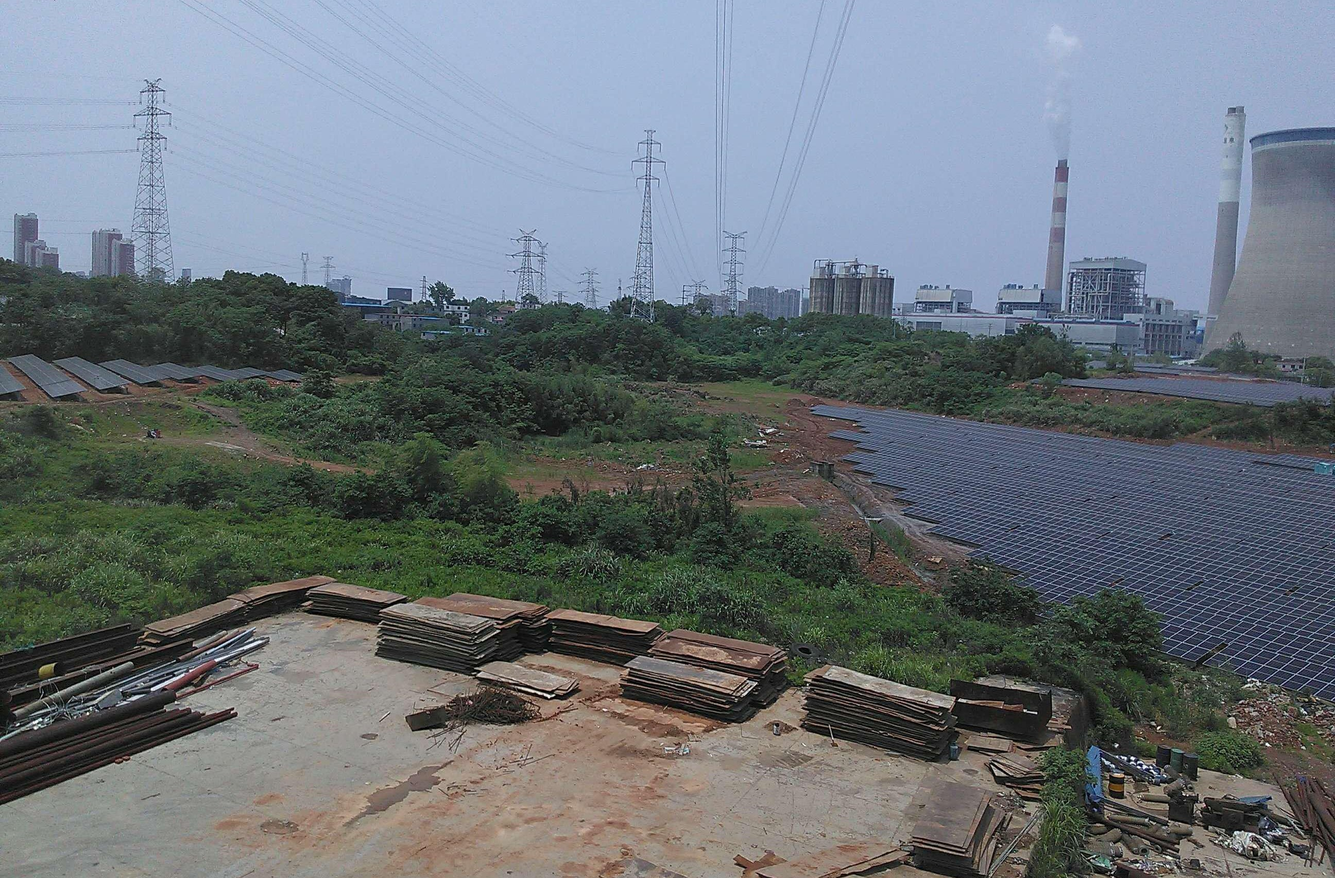工厂排烟: (1040, 19, 1084, 162)
